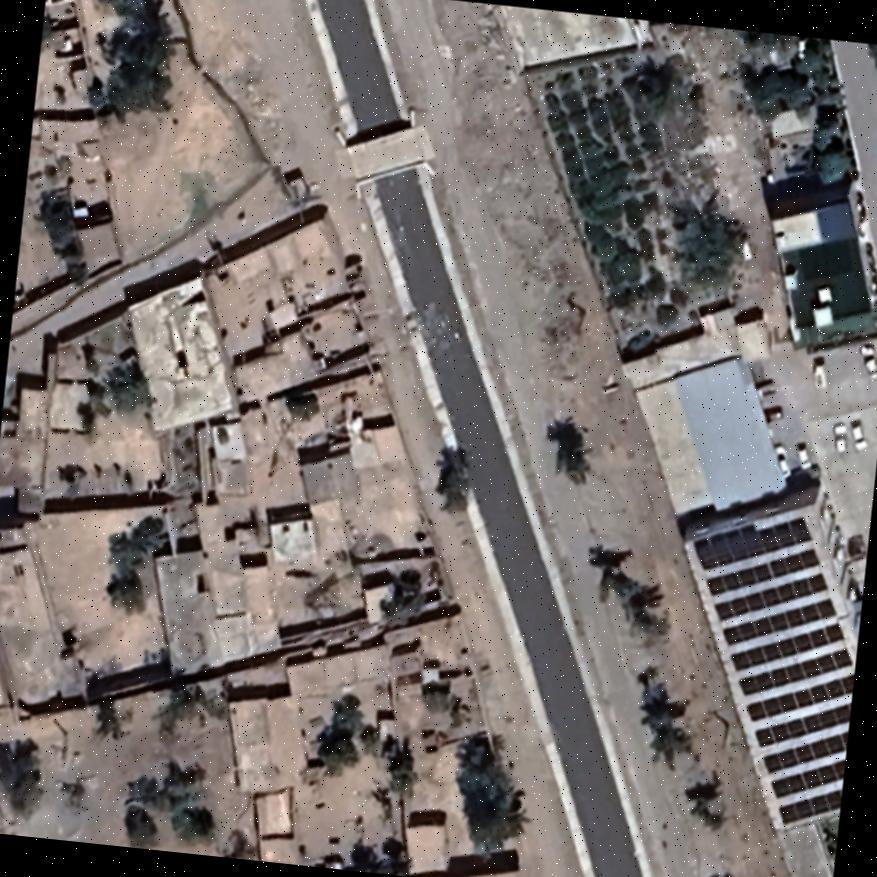Solarpanel: (687, 502, 851, 838)
